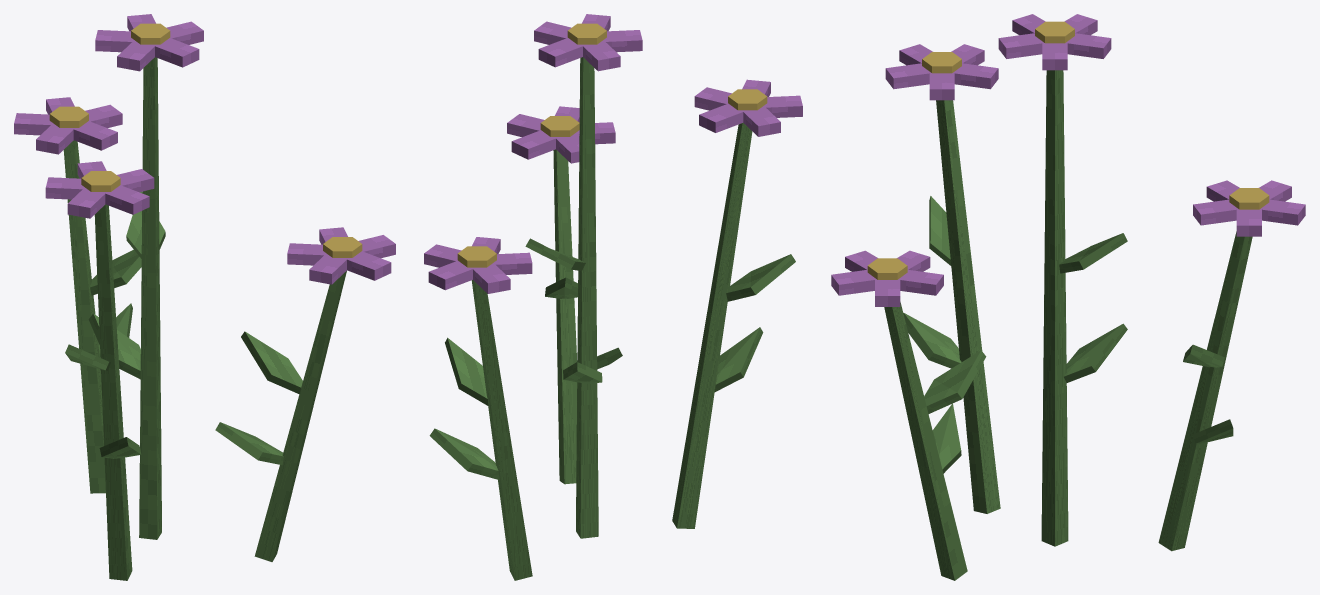
The model's file is f_salsify.glb.
3 views of the same model, side by side, from view 1: azimuth 30°, elevation 25°; view 2: azimuth 150°, elevation 25°; view 3: azimuth 270°, elevation 25° (orthographic).
Parts seen in each view (by area): view 1: block_petal (×16), block_stem-0, block_stem-1, block_pointed-leaf (×7), block_stem-2, block_stem-3, block_flower-centre-2, block_flower-centre-0, block_flower-centre-3, block_flower-centre-1; view 2: block_petal (×15), block_stem-0, block_stem-1, block_pointed-leaf (×7), block_stem-2, block_stem-3, block_flower-centre-0, block_flower-centre-2, block_flower-centre-1, block_flower-centre-3; view 3: block_stem-0, block_petal (×12), block_pointed-leaf (×8), block_stem-1, block_stem-2, block_stem-3, block_flower-centre-0, block_flower-centre-3, block_flower-centre-2, block_flower-centre-1.
Boxes of the visible parts, left/top/right/bottom form: block_petal (×16): left=14, top=21, right=395, bottom=284; block_stem-0: left=139, top=57, right=161, bottom=539; block_stem-1: left=94, top=204, right=132, bottom=580; block_pointed-leaf (×7): left=65, top=192, right=302, bottom=465; block_stem-2: left=63, top=140, right=105, bottom=493; block_stem-3: left=254, top=271, right=346, bottom=561; block_flower-centre-2: left=49, top=106, right=88, bottom=127; block_flower-centre-0: left=131, top=23, right=170, bottom=44; block_flower-centre-3: left=323, top=237, right=362, bottom=257; block_flower-centre-1: left=81, top=171, right=120, bottom=191; block_petal (×15): left=424, top=21, right=802, bottom=293; block_stem-0: left=576, top=57, right=598, bottom=538; block_stem-1: left=672, top=123, right=752, bottom=528; block_pointed-leaf (×7): left=429, top=238, right=795, bottom=479; block_stem-2: left=471, top=280, right=532, bottom=580; block_stem-3: left=553, top=149, right=577, bottom=484; block_flower-centre-0: left=567, top=23, right=606, bottom=44; block_flower-centre-2: left=457, top=246, right=496, bottom=267; block_flower-centre-1: left=728, top=89, right=767, bottom=110; block_flower-centre-3: left=540, top=116, right=579, bottom=136; block_stem-0: left=1041, top=70, right=1068, bottom=546; block_petal (×12): left=831, top=33, right=1305, bottom=306; block_pointed-leaf (×8): left=903, top=196, right=1233, bottom=473; block_stem-1: left=936, top=100, right=1000, bottom=513; block_stem-2: left=1158, top=231, right=1252, bottom=551; block_stem-3: left=884, top=302, right=967, bottom=580; block_flower-centre-0: left=1035, top=21, right=1074, bottom=43; block_flower-centre-3: left=867, top=258, right=907, bottom=279; block_flower-centre-2: left=1229, top=188, right=1269, bottom=209; block_flower-centre-1: left=922, top=52, right=961, bottom=73.
Bounding box in the file's own units: 0.4462 × 0.7059 × 0.5902.
Materials: 1 (1 with a texture image).
